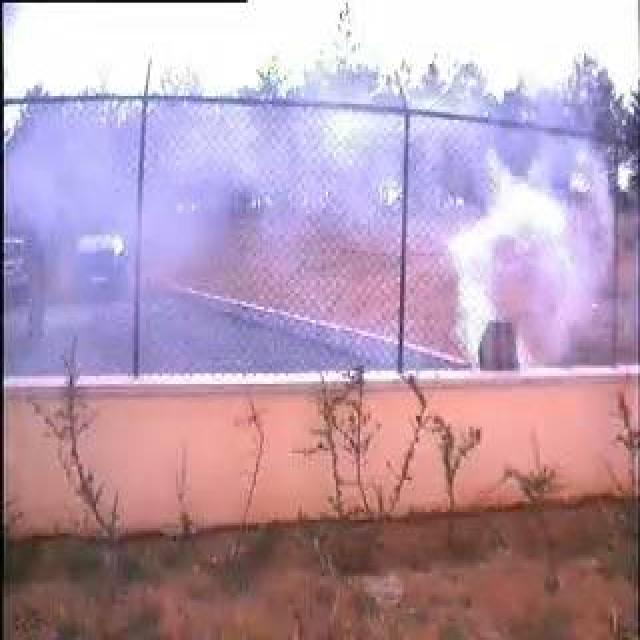Smoke: (33, 110, 571, 367)
